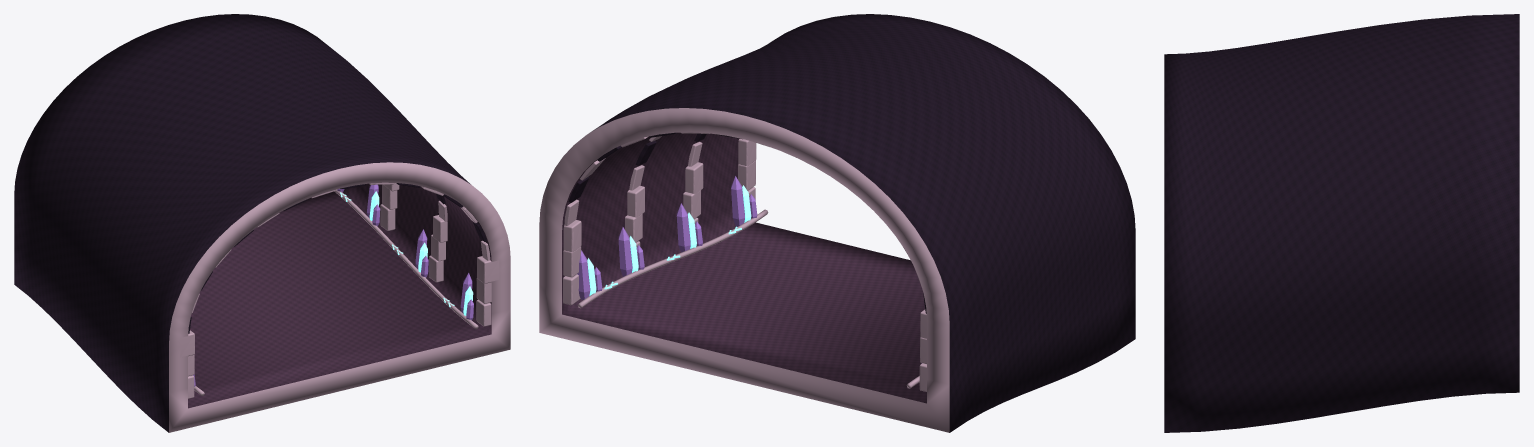
Rendered from grade_up.glb.
The picture shows the model from 3 angles, left to right: view 1: azimuth 30°, elevation 25°; view 2: azimuth 150°, elevation 25°; view 3: azimuth 270°, elevation 25°; orthographic projection. The views are drawn at different scales.
Parts seen in each view (by area): view 1: TunnelGeometry; view 2: TunnelGeometry; view 3: TunnelGeometry.
Part boxes in pixels (x1,y1,x2,y2): TunnelGeometry: [14, 14, 510, 432]; TunnelGeometry: [539, 14, 1135, 432]; TunnelGeometry: [1164, 14, 1519, 432].
Size of the model in its own units: 15.3 by 11.02 by 12.
5 materials, 2 textured.
